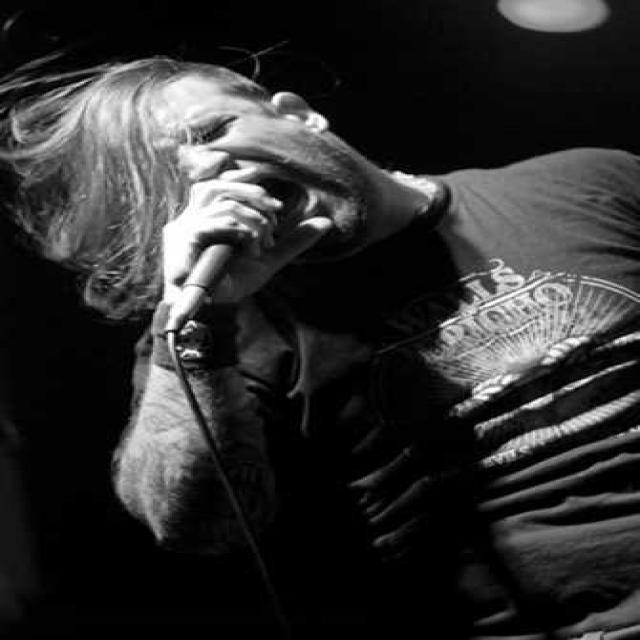microphone: (152, 178, 282, 358)
